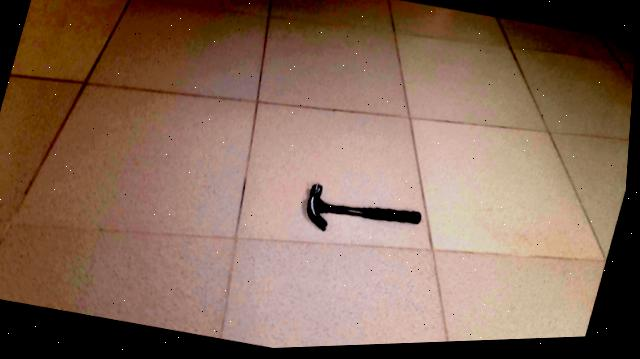hammer: (292, 171, 450, 265)
